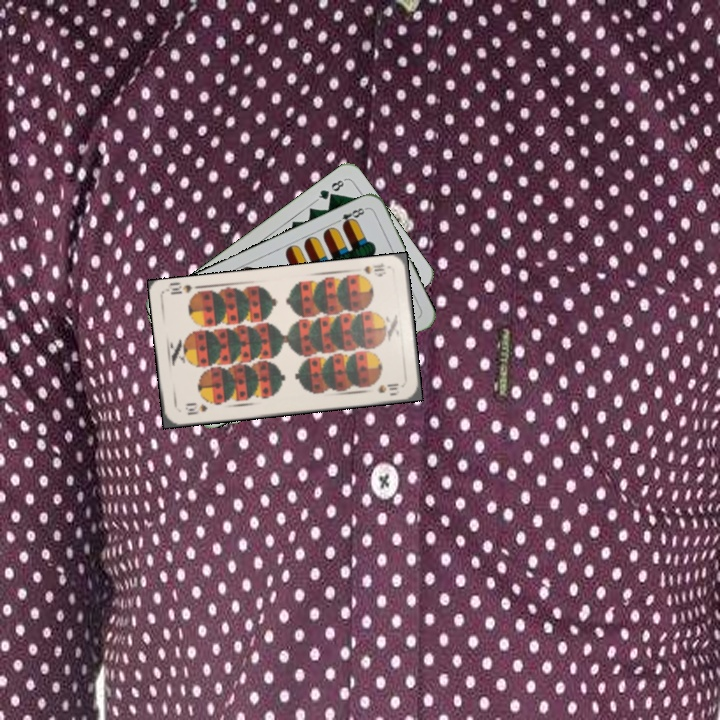E8: (331, 204, 369, 230)
G8: (312, 175, 348, 204)
S10: (351, 259, 388, 281), (181, 400, 210, 418)
